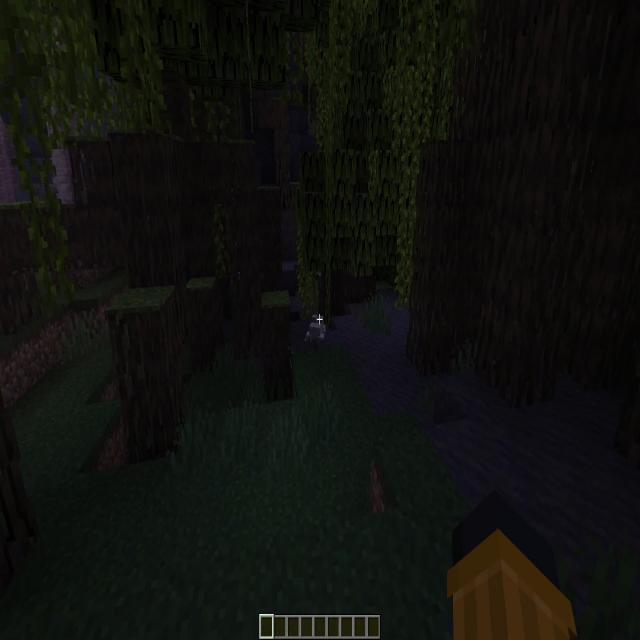Frog: (306, 313, 324, 342)
